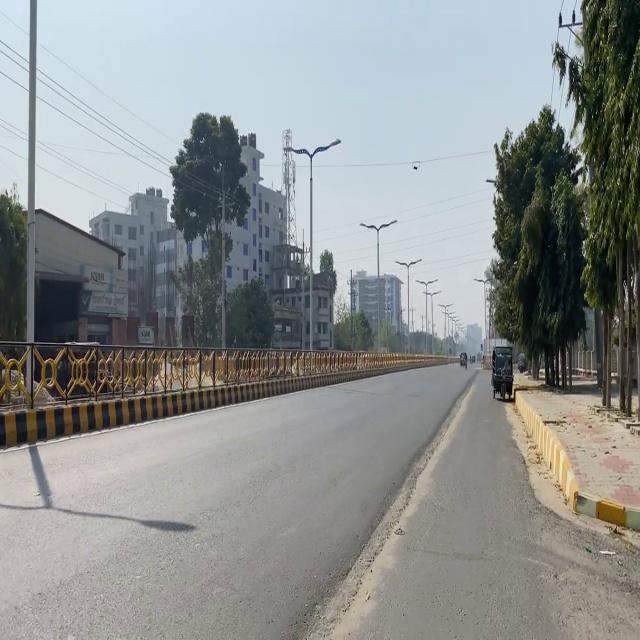Construction-barrier: (530, 482, 639, 522)
Downstairs: (490, 345, 514, 401)
Light-pole: (24, 0, 39, 404)
Pole: (4, 328, 254, 462)
Pothole: (478, 362, 640, 639)
Traffic-cone: (352, 436, 416, 582), (316, 546, 352, 640)
